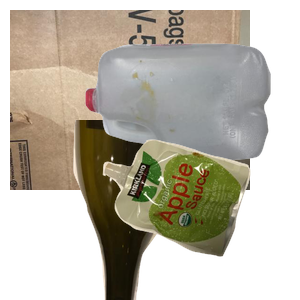cardboard: (10, 10, 250, 190)
glass: (71, 120, 254, 300)
plastic: (83, 41, 300, 194)
trash: (100, 137, 300, 300)
